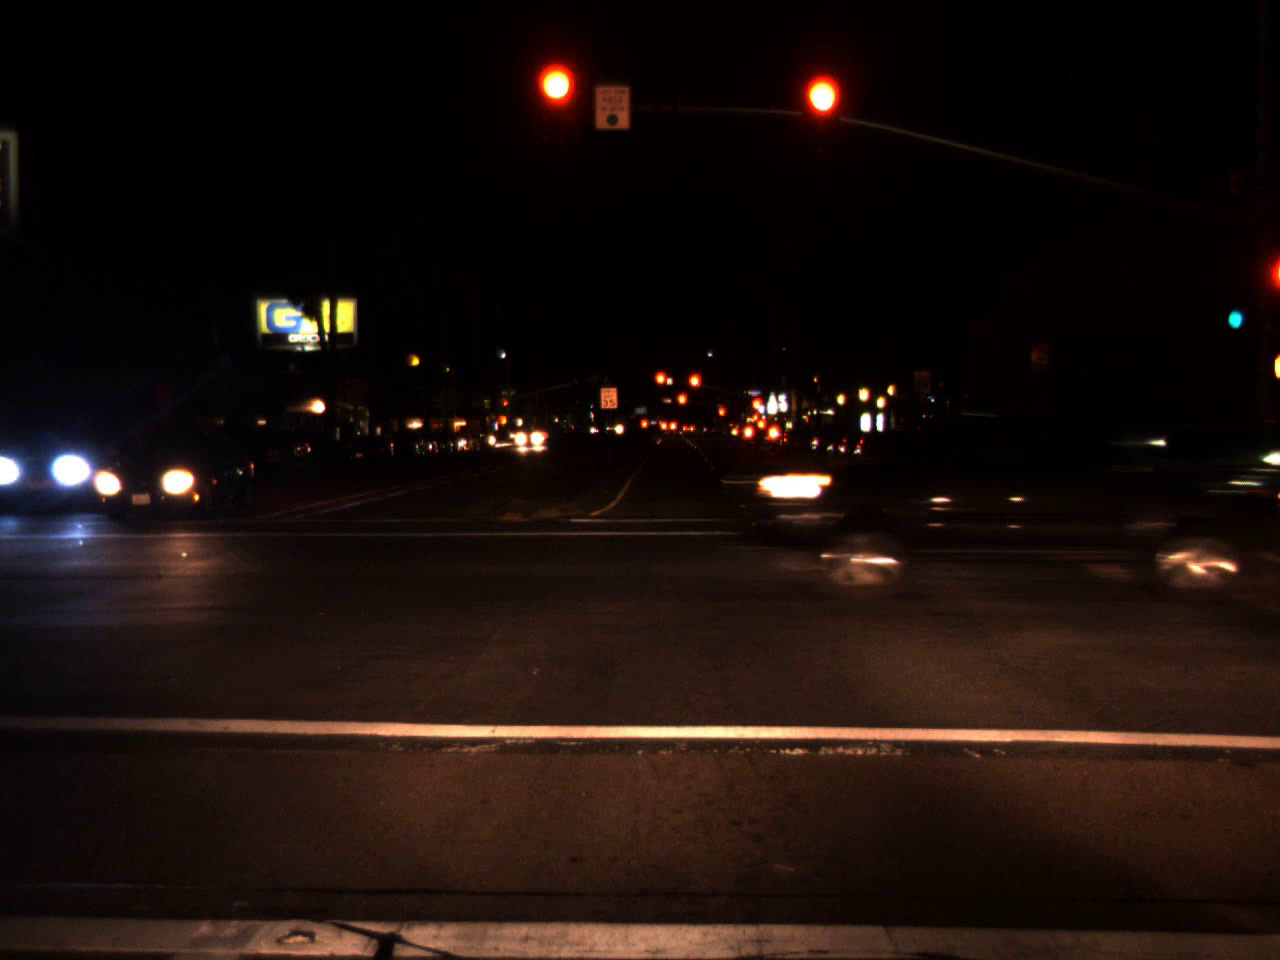stop: (537, 65, 577, 143), (801, 76, 841, 154), (653, 369, 671, 401), (686, 371, 702, 403), (749, 396, 764, 425), (675, 391, 688, 418), (717, 406, 726, 427), (503, 399, 509, 412)
